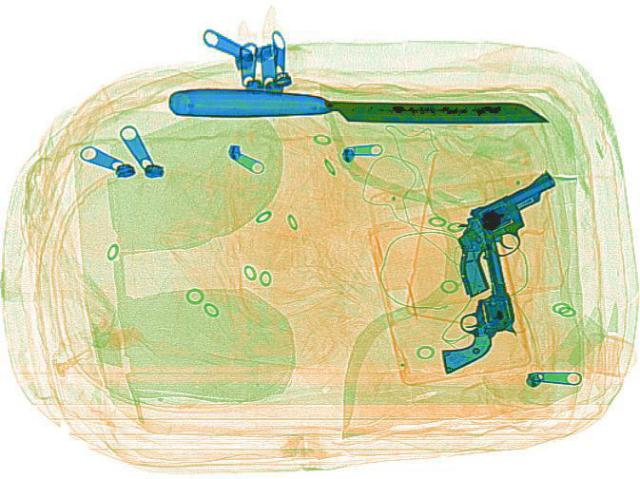Gun: (406, 167, 610, 296), (412, 213, 524, 372)
Knife: (165, 83, 548, 130)
